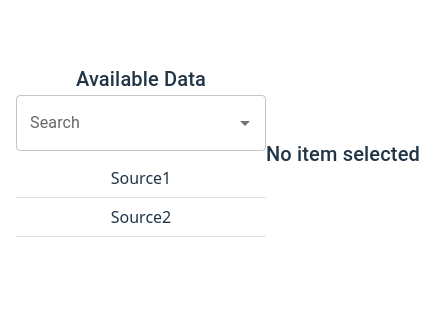
Test: Dropdown Component › expands data source when clicked
The width and height of the screenshot is (436, 309).
# click on Source1
Click the button "Source1" at (141, 178), box [32,167,250,189]
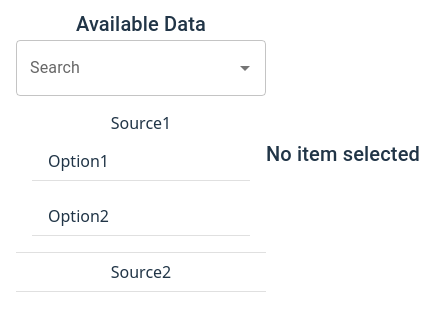
Expected: the text "Option1" is shown, [48,150,109,172]
Expected: the text "Option2" is shown, [48,205,109,227]
